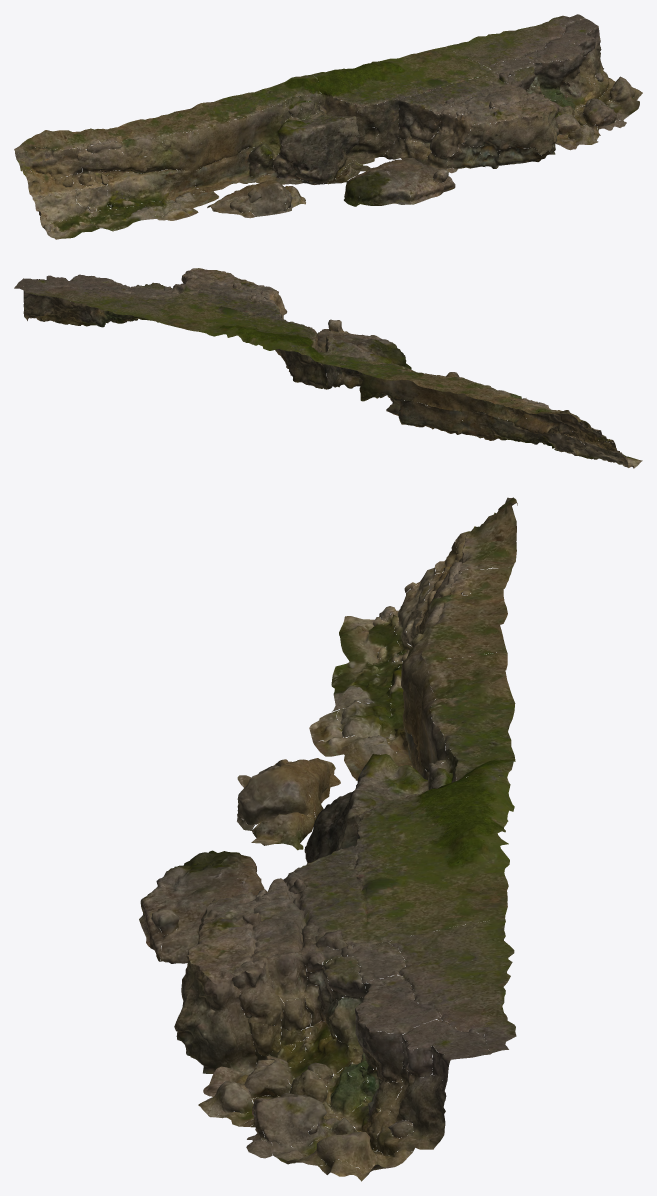
Rendered from coastal_cliff_04.opt.glb.
The picture shows the model from 3 angles, top to bottom: view 1: azimuth 30°, elevation 25°; view 2: azimuth 150°, elevation 25°; view 3: azimuth 270°, elevation 25°; orthographic projection. The views are drawn at different scales.
Visible parts, largest first — view 1: coastal_cliff_04; view 2: coastal_cliff_04; view 3: coastal_cliff_04.
Boxes of the visible parts, box(x1,y1,x2,y2) form: coastal_cliff_04: box(14, 14, 642, 239); coastal_cliff_04: box(14, 268, 642, 468); coastal_cliff_04: box(139, 497, 517, 1181).
Size of the model in its own units: 86.77 by 10.99 by 24.24.
1 material, 1 textured.
